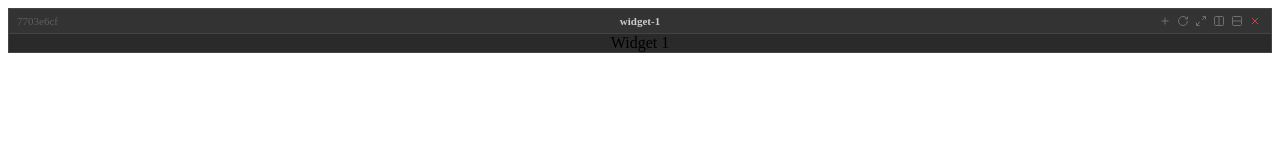
Test: TileComponent Tabs › should show the picker when "Add Tab" is clicked
The width and height of the screenshot is (1280, 160).
Check: the text "Select a Component" is not shown
# Click "Add Tab" control button (using title from Tile.tsx)
Click the button titled "Add Tab": (1165, 21) [1157,13,1173,29]
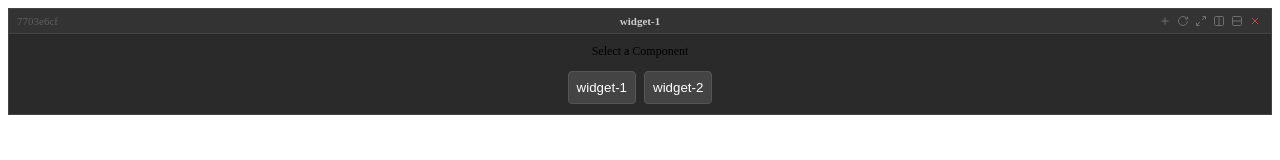
Check: the text "Select a Component" is shown, box [592,44,688,58]
